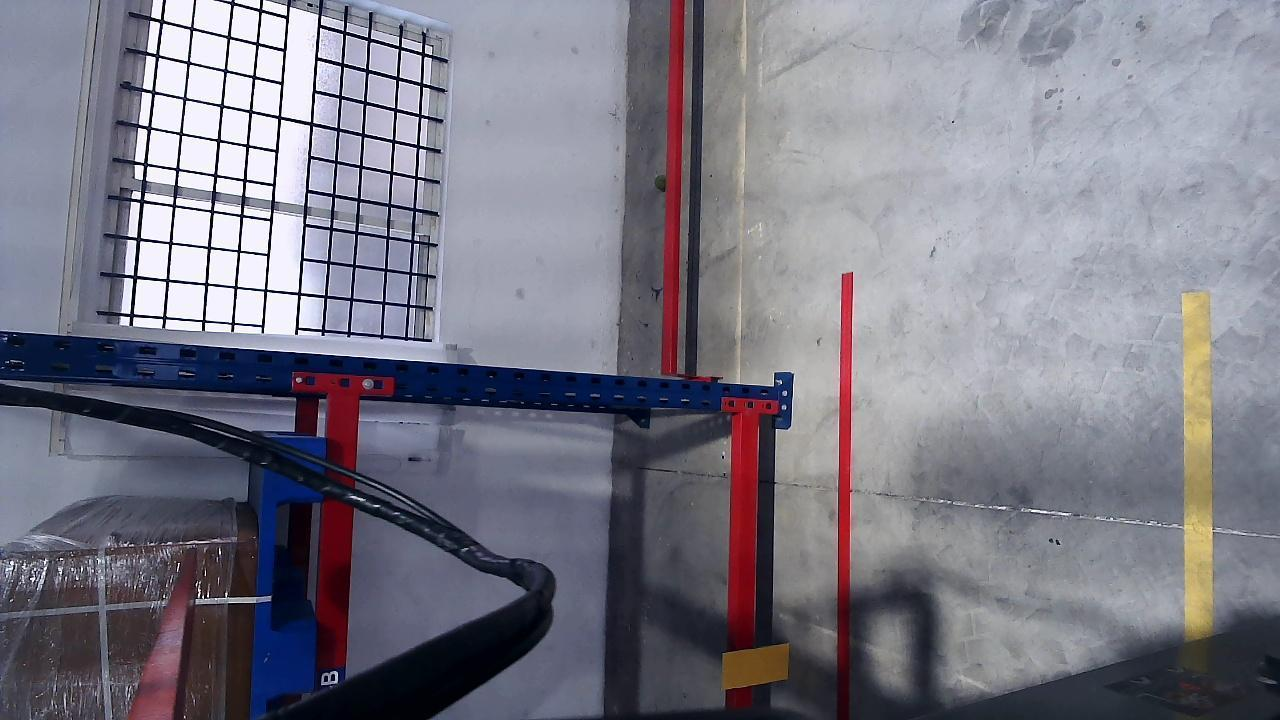red_line: (837, 271, 854, 720)
yellow_line: (1182, 298, 1215, 635)
